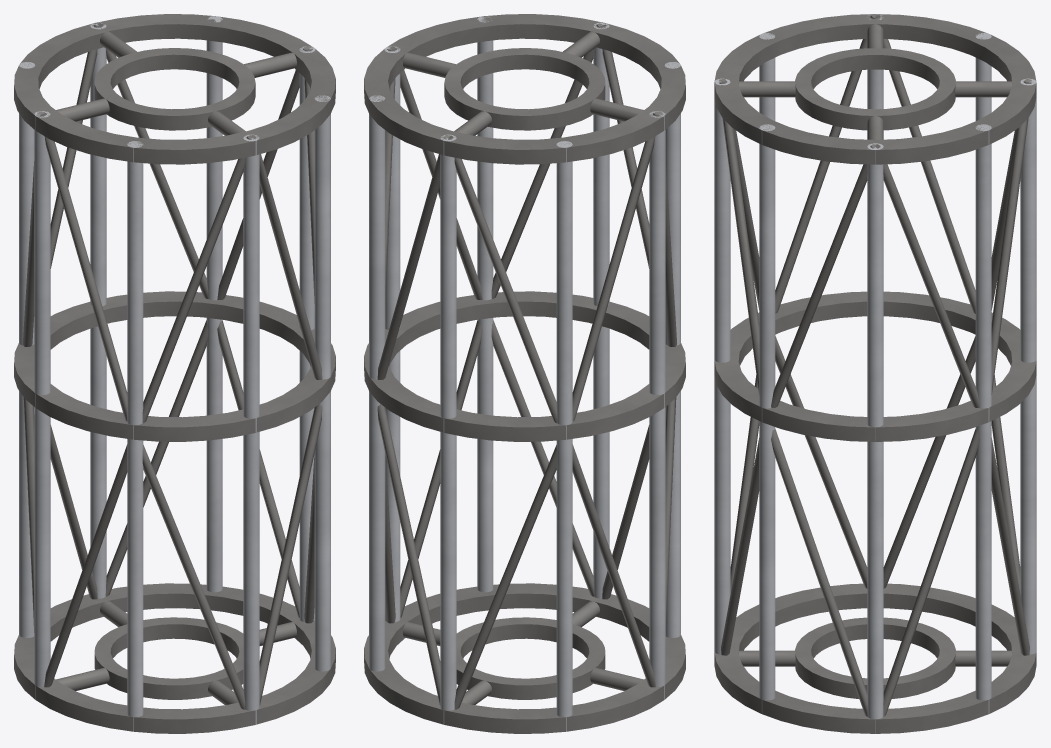
File: struct01_lattice_truss_m_500.glb
The picture shows the model from 3 angles, left to right: view 1: azimuth 30°, elevation 25°; view 2: azimuth 150°, elevation 25°; view 3: azimuth 270°, elevation 25°; orthographic projection.
Parts seen in each view (by area): view 1: longerons, ring_frames, diagonals, end_plates; view 2: longerons, ring_frames, diagonals, end_plates; view 3: ring_frames, longerons, diagonals, end_plates.
Boxes of the visible parts, bbox=[...] form: longerons: bbox=[19, 16, 330, 731]; ring_frames: bbox=[14, 14, 335, 733]; diagonals: bbox=[23, 23, 322, 709]; end_plates: bbox=[56, 31, 296, 704]; longerons: bbox=[369, 16, 680, 731]; ring_frames: bbox=[364, 14, 685, 733]; diagonals: bbox=[377, 23, 676, 709]; end_plates: bbox=[403, 31, 643, 704]; ring_frames: bbox=[714, 14, 1036, 733]; longerons: bbox=[714, 14, 1036, 733]; diagonals: bbox=[719, 15, 1031, 716]; end_plates: bbox=[738, 24, 1012, 698].
Size of the model in its own units: 2.5 by 5.03 by 2.5.
Materials: 2 (2 with a texture image).
